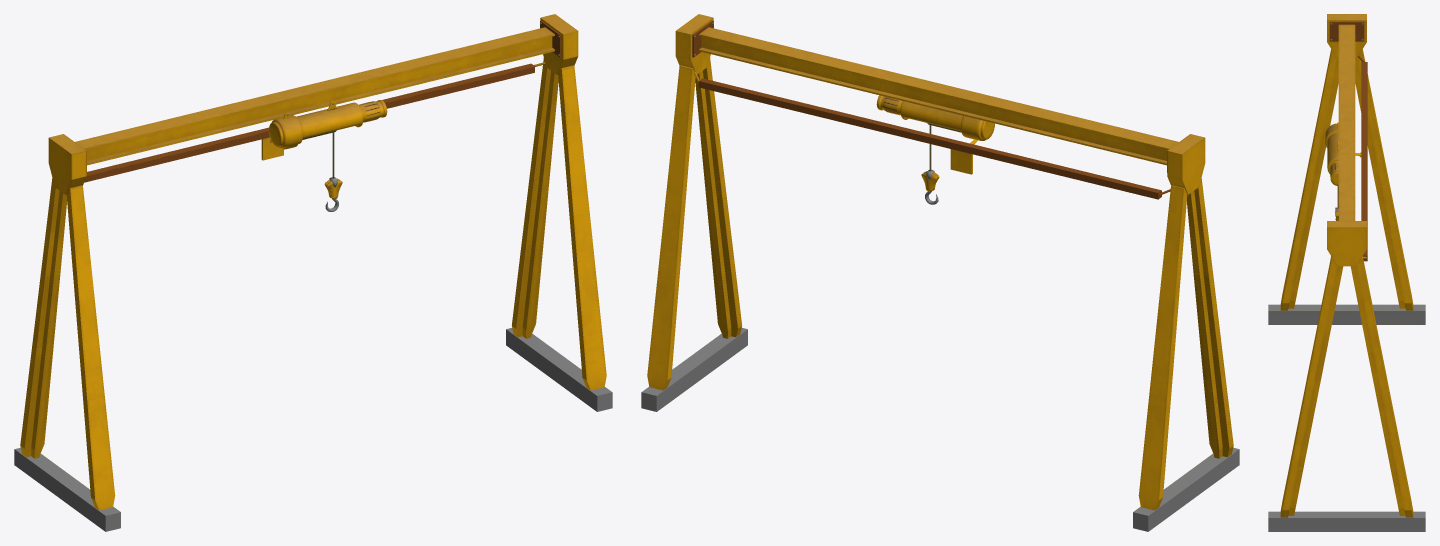
Rendered from gantry_crane.glb.
3 views of the same model, side by side, from view 1: azimuth 30°, elevation 25°; view 2: azimuth 150°, elevation 25°; view 3: azimuth 270°, elevation 25° (orthographic). The views are drawn at different scales.
Parts seen in each view (by area): view 1: Cylinder.001; view 2: Cylinder.001; view 3: Cylinder.001.
Part boxes in pixels (x1,y1,x2,y2): Cylinder.001: (14,14,612,531); Cylinder.001: (641,14,1239,531); Cylinder.001: (1268,14,1425,531).
Size of the model in its own units: 6 by 3.95 by 1.85.
Materials: 1 (1 with a texture image).
